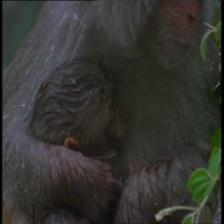monkey: (30, 55, 134, 173), (138, 3, 216, 71)
